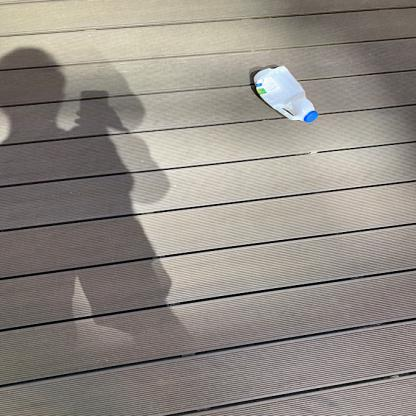trash: (251, 65, 322, 124)
